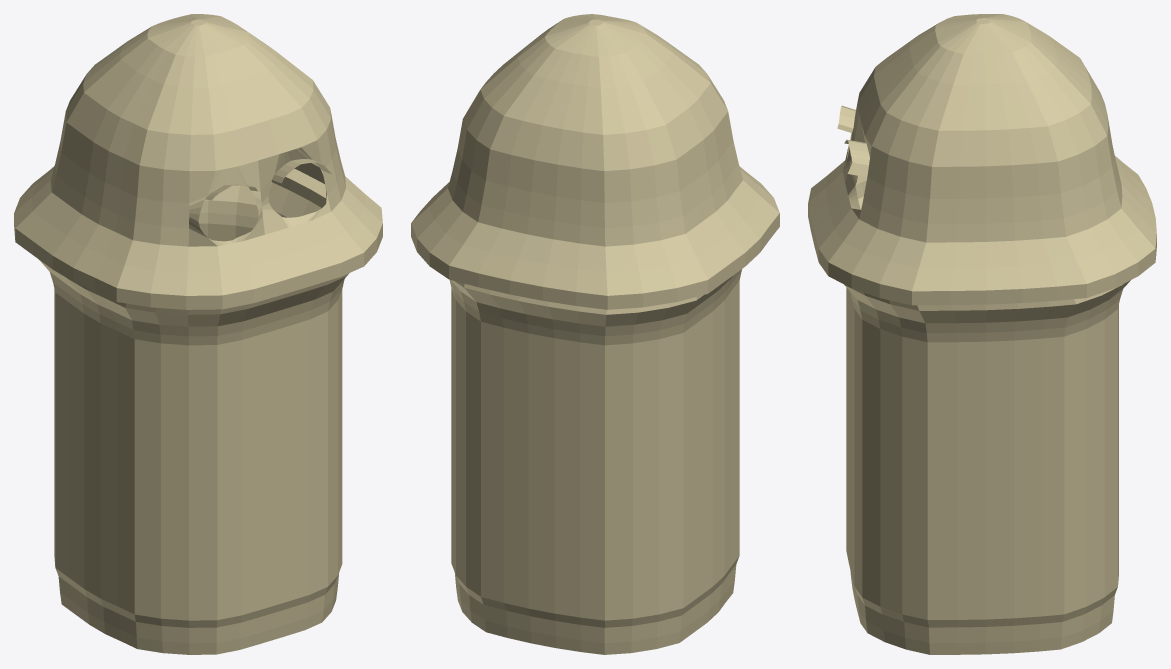
3 views of the same model, side by side, from view 1: azimuth 30°, elevation 25°; view 2: azimuth 150°, elevation 25°; view 3: azimuth 270°, elevation 25° (orthographic).
Parts seen in each view (by area): view 1: 円柱; view 2: 円柱; view 3: 円柱.
Boxes of the visible parts, x1=… form: 円柱: x1=14, y1=14, x2=382, y2=654; 円柱: x1=411, y1=14, x2=779, y2=654; 円柱: x1=808, y1=14, x2=1156, y2=654.
Bounding box in the file's own units: 317 × 588 × 320.
